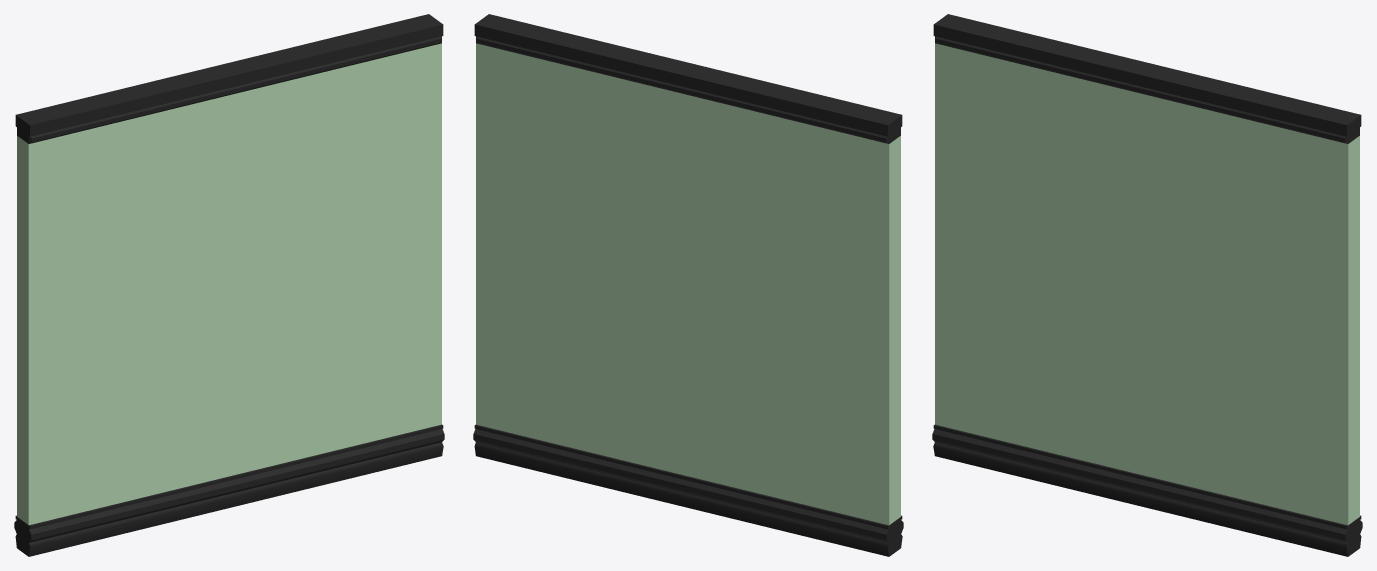
The model's file is Wall.fbx.
3 views of the same model, side by side, from view 1: azimuth 30°, elevation 25°; view 2: azimuth 150°, elevation 25°; view 3: azimuth 330°, elevation 25° (orthographic).
Parts seen in each view (by area): view 1: Wall; view 2: Wall; view 3: Wall.
Boxes of the visible parts, x1=… form: Wall: x1=14, y1=14, x2=444, y2=556; Wall: x1=473, y1=14, x2=903, y2=556; Wall: x1=932, y1=14, x2=1362, y2=556.
Bounding box in the file's own units: 200 × 200 × 14.
